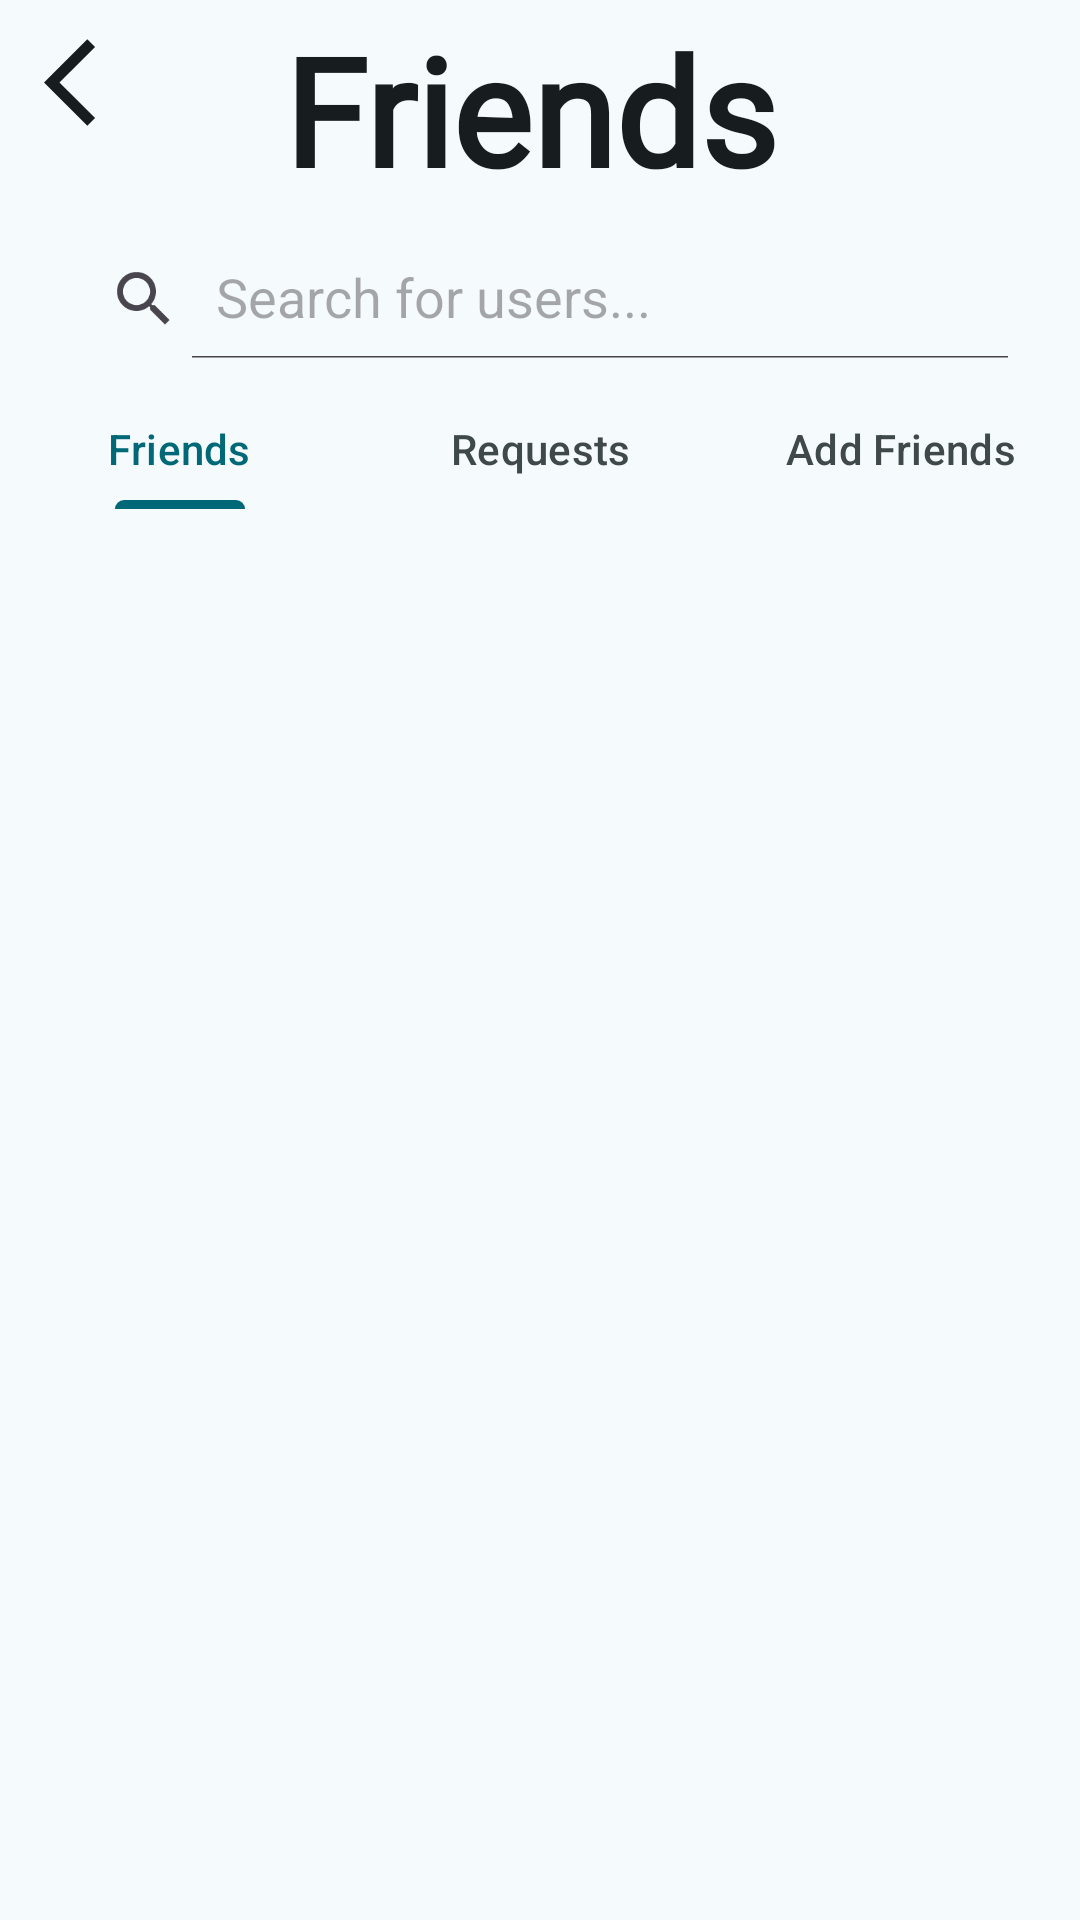

Where icons sit on this 1080px x 1920px app screen, as BBox(x1, y1, x2, y2):
arrow back: BBox(44, 39, 95, 126)
